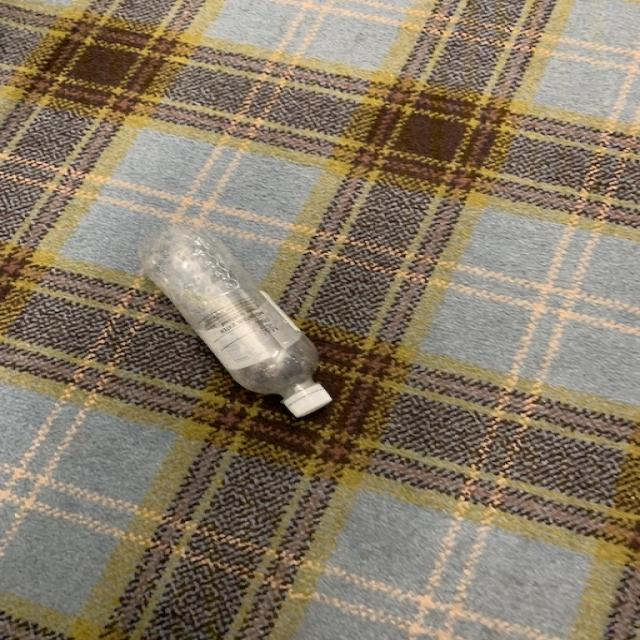Waste: (141, 225, 332, 417)
